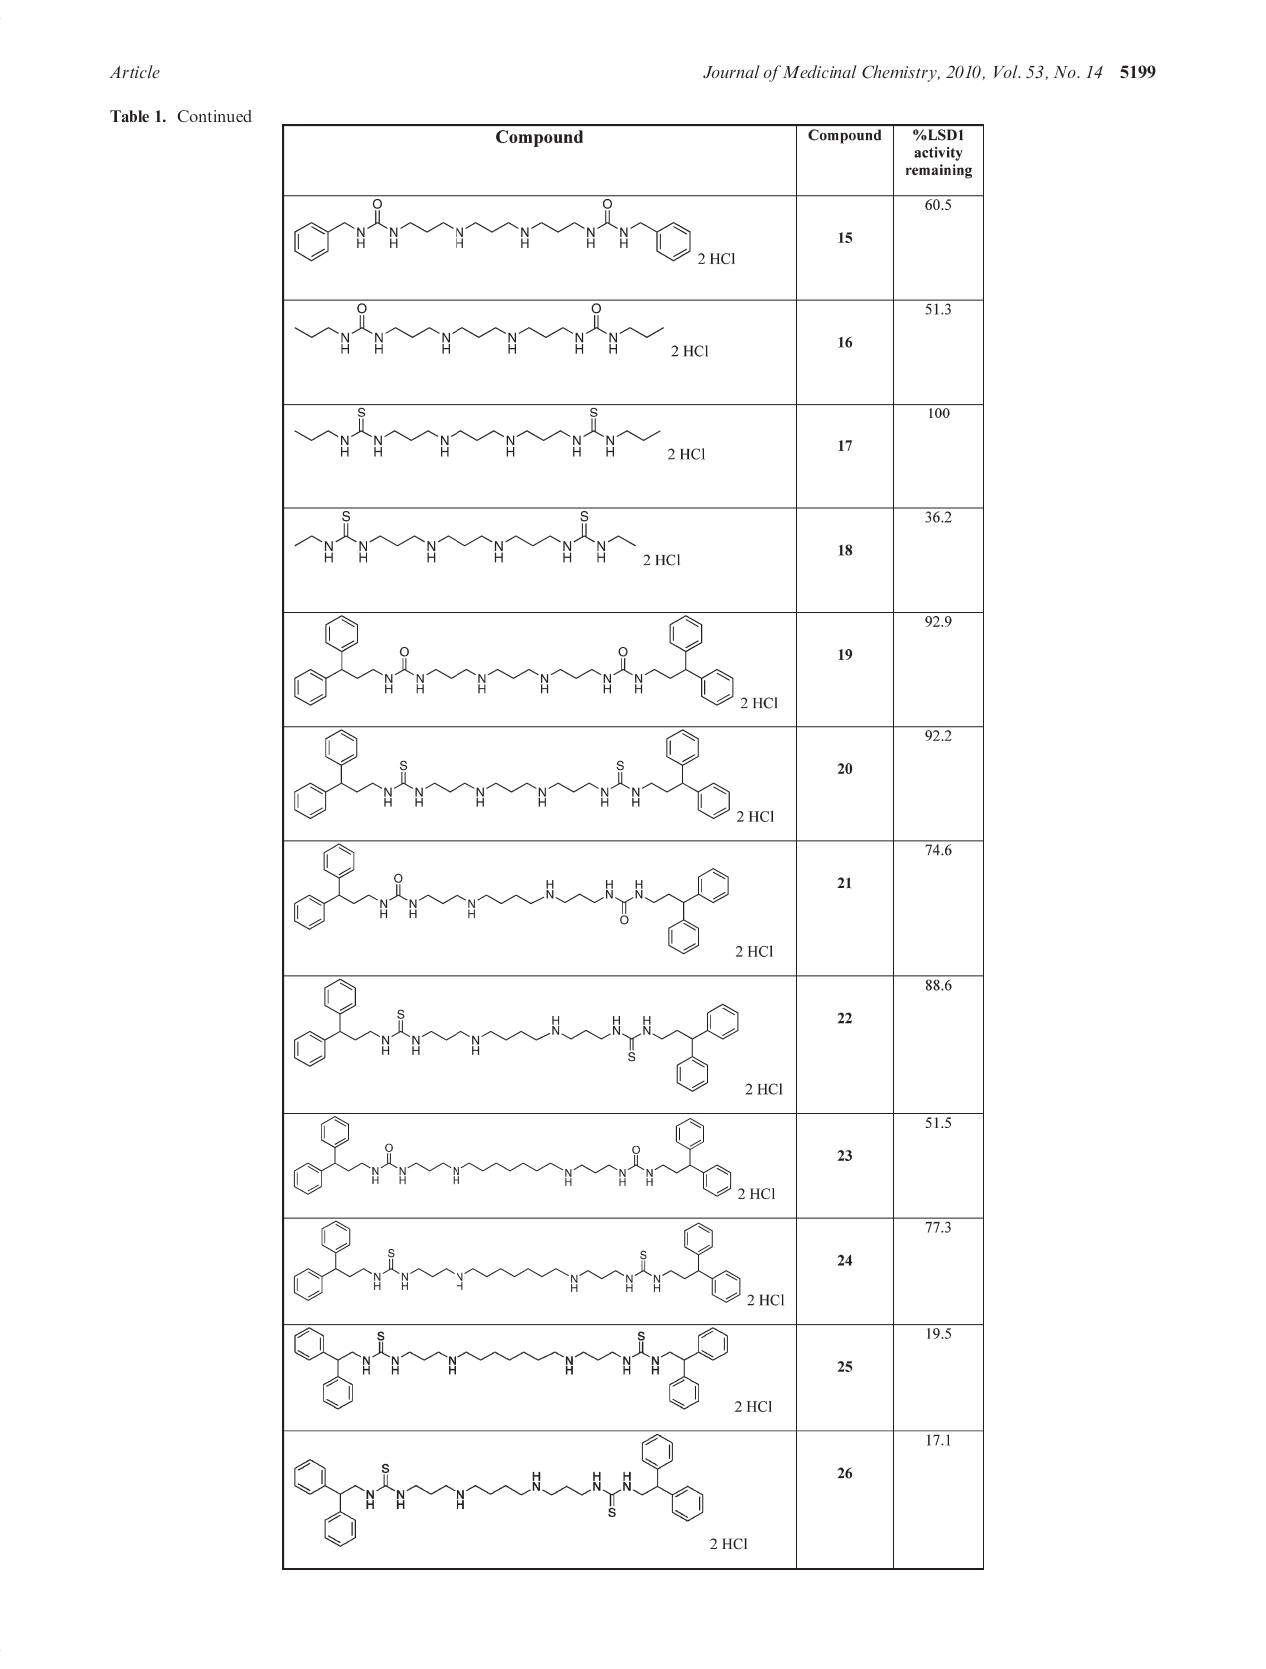exist_molecular: (291, 977, 743, 1094), (291, 840, 725, 955), (291, 1432, 707, 1551), (289, 727, 731, 823), (293, 614, 738, 709), (291, 1220, 743, 1307), (293, 1116, 735, 1204), (289, 1327, 730, 1411), (291, 195, 696, 269), (294, 303, 668, 358), (294, 404, 662, 459), (295, 508, 636, 563)
